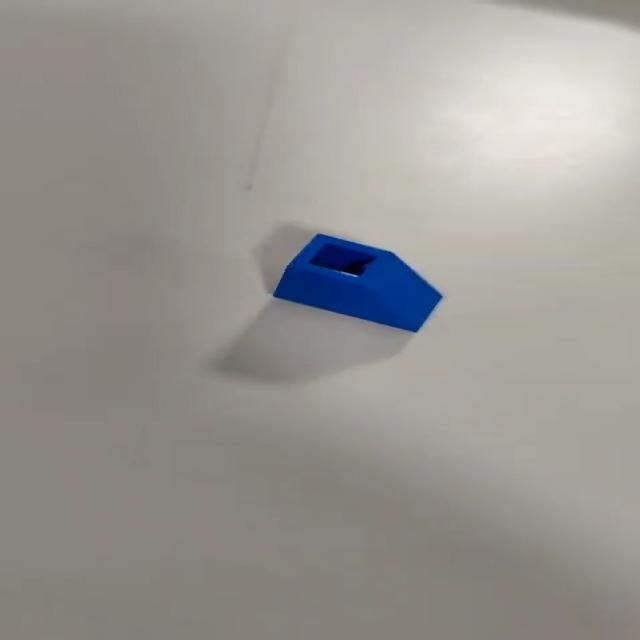X1x2x1: (274, 232, 451, 332)
